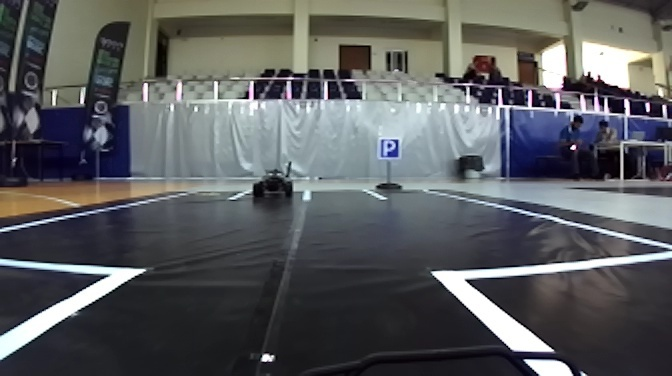park: (376, 136, 405, 162)
